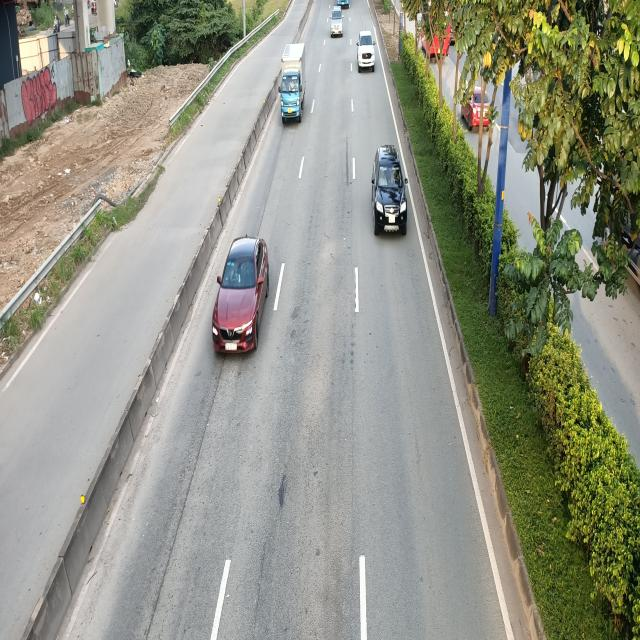car: (212, 234, 270, 353), (370, 144, 406, 235), (357, 32, 376, 73), (330, 8, 344, 38)
truck: (278, 40, 305, 122)
